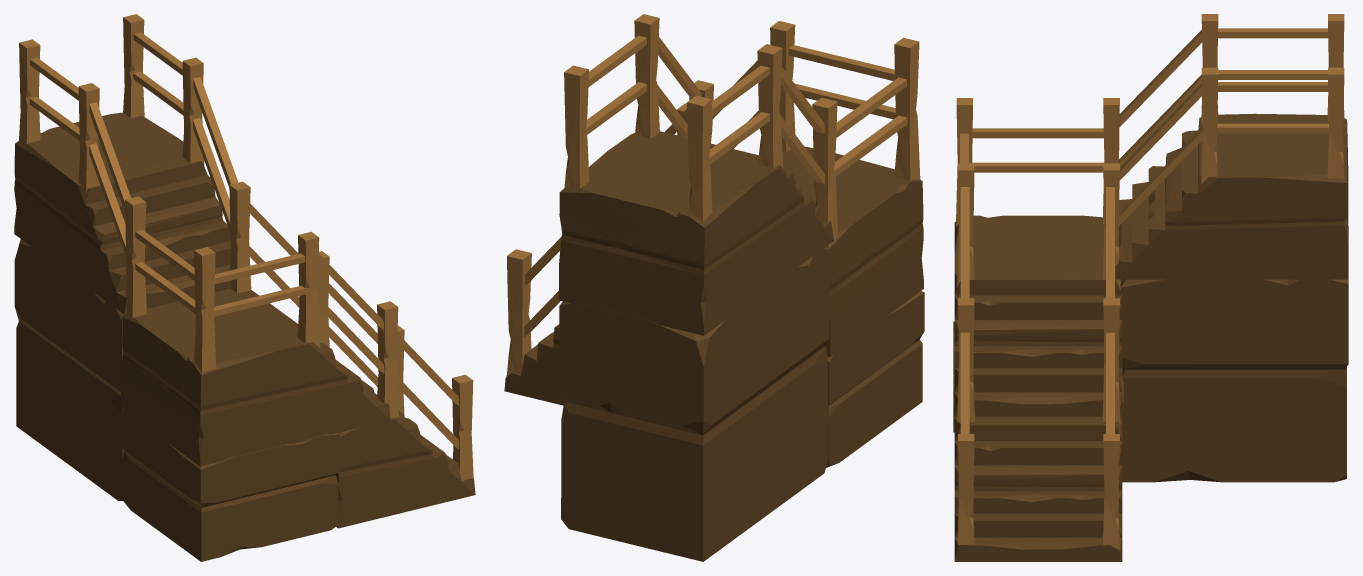
Rendered from staircase.fbx.
3 renders of one model, left to right at view 1: azimuth 30°, elevation 25°; view 2: azimuth 150°, elevation 25°; view 3: azimuth 270°, elevation 25°, orthographic. The views are drawn at different scales.
Visible parts, largest first — view 1: staircase; view 2: staircase; view 3: staircase.
Boxes of the visible parts, x1,y1,x2,y2 form: staircase: (14, 14, 475, 561); staircase: (504, 14, 924, 561); staircase: (953, 14, 1348, 561).
Size of the model in its own units: 376 by 502 by 441.
